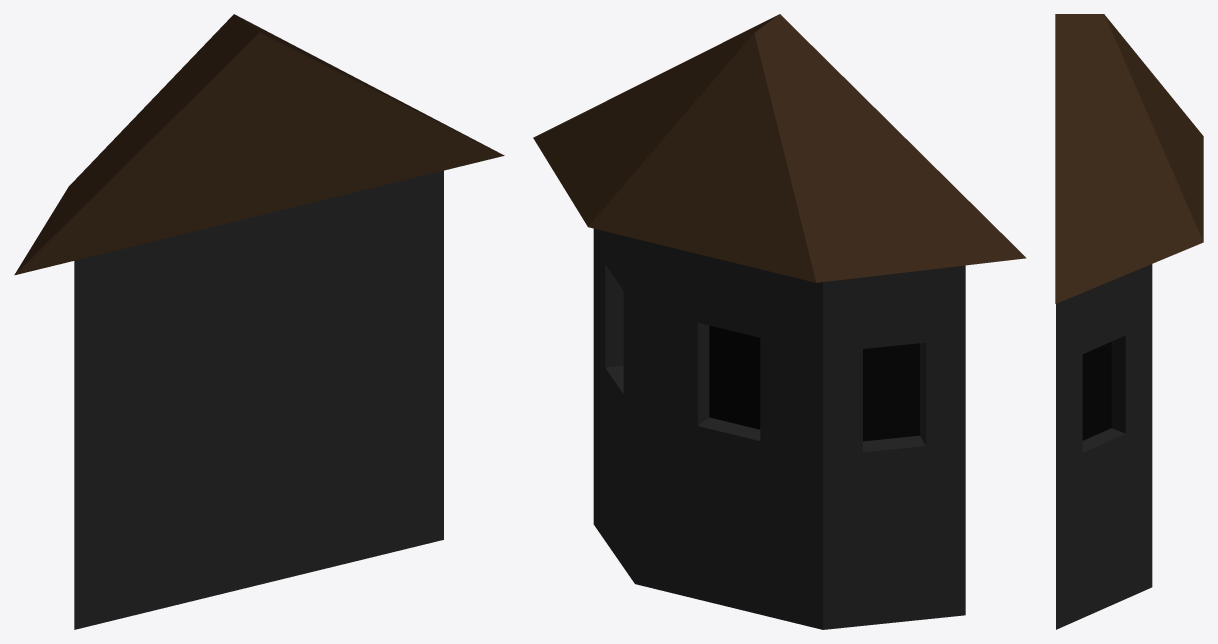
Rendered from Tower_expansion.fbx.
3 renders of one model, left to right at view 1: azimuth 30°, elevation 25°; view 2: azimuth 150°, elevation 25°; view 3: azimuth 270°, elevation 25°, orthographic. The views are drawn at different scales.
Visible parts, largest first — view 1: tower expansion; view 2: tower expansion; view 3: tower expansion.
Boxes of the visible parts, left/top/right/bottom form: tower expansion: left=14, top=14, right=504, bottom=629; tower expansion: left=533, top=14, right=1026, bottom=629; tower expansion: left=1055, top=14, right=1203, bottom=629.
Bounding box in the file's own units: 583 × 627 × 159.
